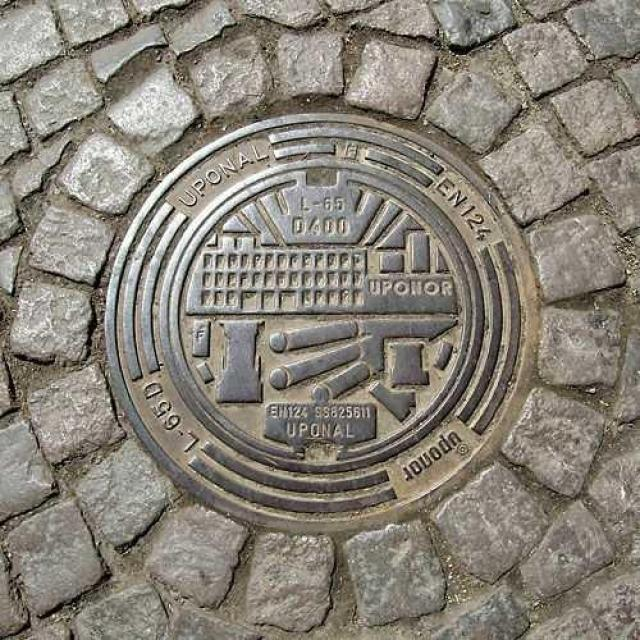manhole: (105, 114, 538, 532)
